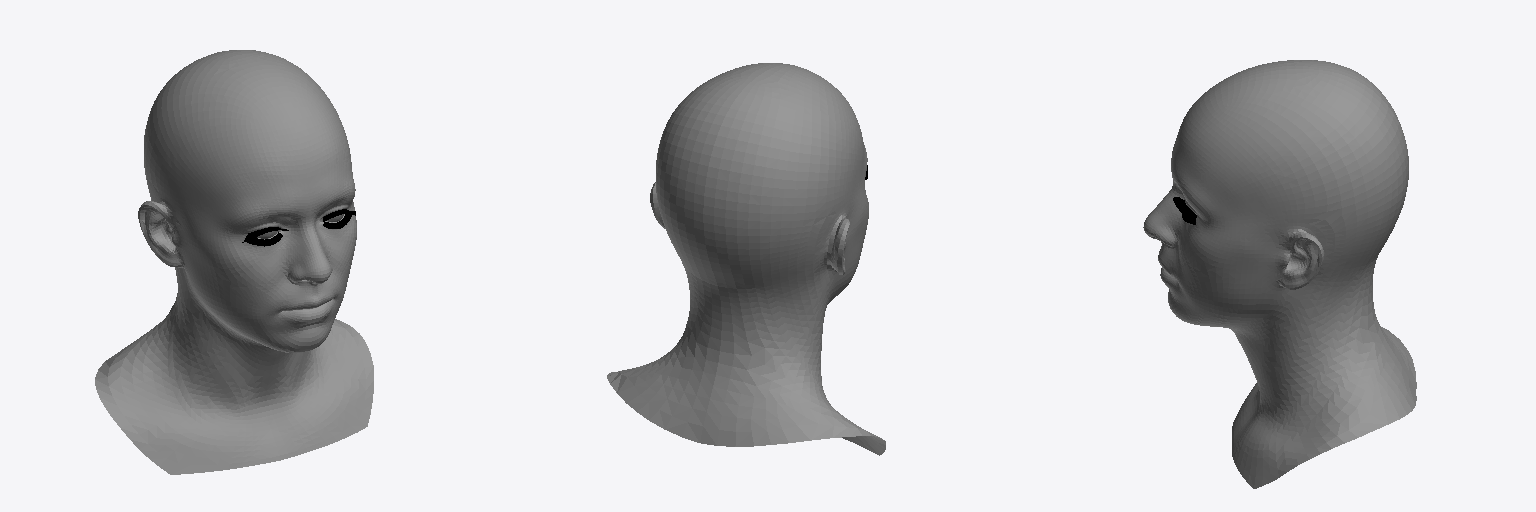
Rendered from identity023.obj.
3 views of the same model, side by side, from view 1: azimuth 30°, elevation 25°; view 2: azimuth 150°, elevation 25°; view 3: azimuth 270°, elevation 25° (orthographic).
Size of the model in its own units: 24.72 by 33.74 by 22.33.